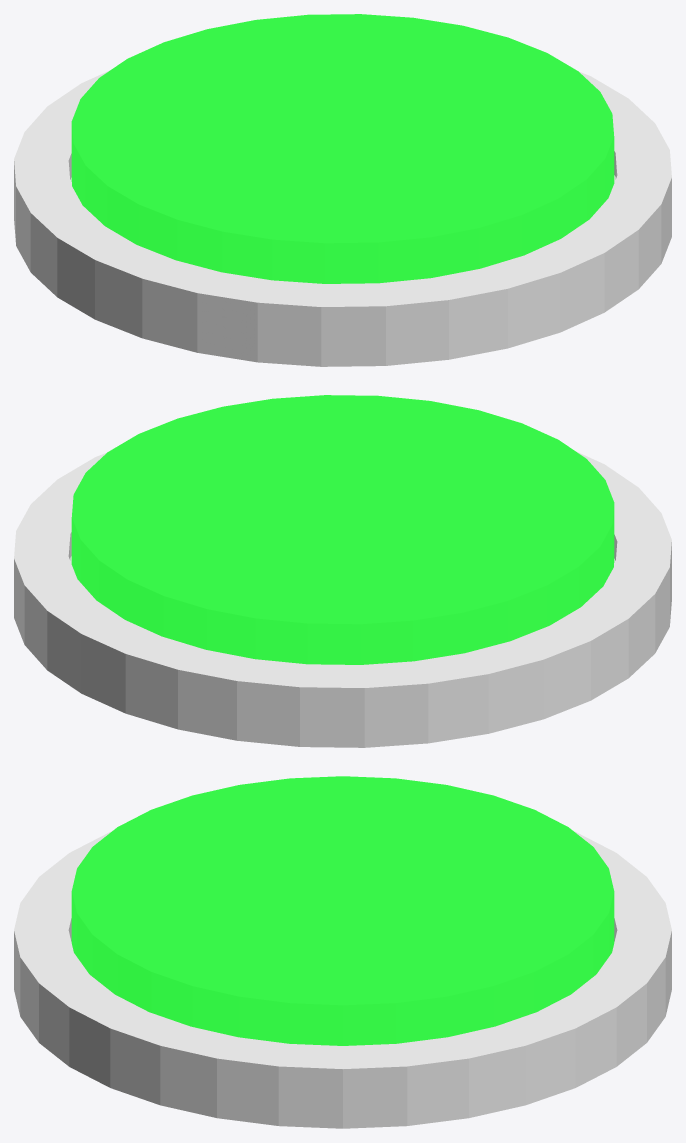
Rendered from push_button.glb.
The picture shows the model from 3 angles, top to bottom: view 1: azimuth 30°, elevation 25°; view 2: azimuth 150°, elevation 25°; view 3: azimuth 270°, elevation 25°; orthographic projection.
Visible parts, largest first — view 1: Cylinder.001, Cylinder; view 2: Cylinder.001, Cylinder; view 3: Cylinder.001, Cylinder.
Boxes of the visible parts, x1,y1,x2,y2 form: Cylinder.001: (71, 14, 614, 283); Cylinder: (14, 70, 671, 366); Cylinder.001: (71, 395, 614, 664); Cylinder: (14, 451, 671, 747); Cylinder.001: (71, 776, 614, 1045); Cylinder: (14, 831, 671, 1128).
Bounding box in the file's own units: 2 × 0.3319 × 2.
